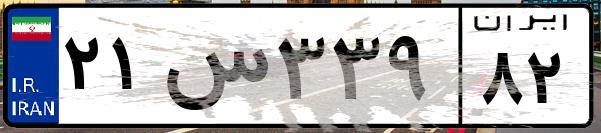1: (110, 28, 158, 98)
2: (57, 26, 110, 100), (525, 38, 570, 115)
3: (270, 28, 330, 110), (330, 28, 385, 110)
8: (475, 38, 525, 113)
9: (385, 28, 445, 110)
س: (158, 20, 270, 120)
